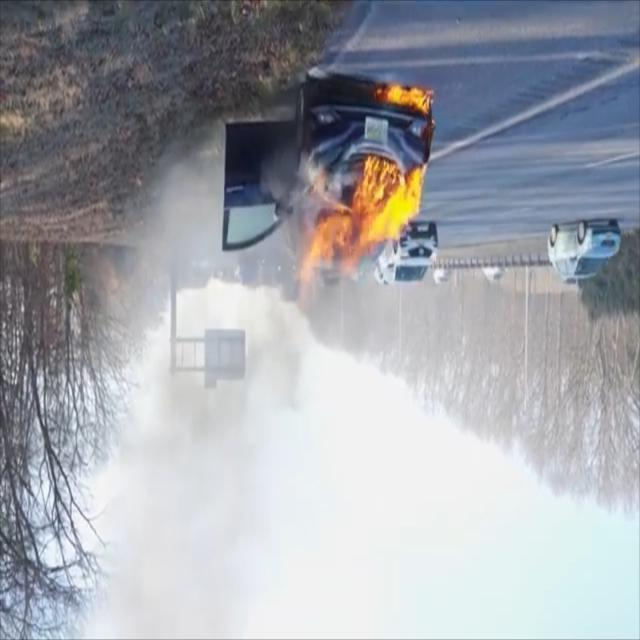fire: (292, 78, 434, 316)
